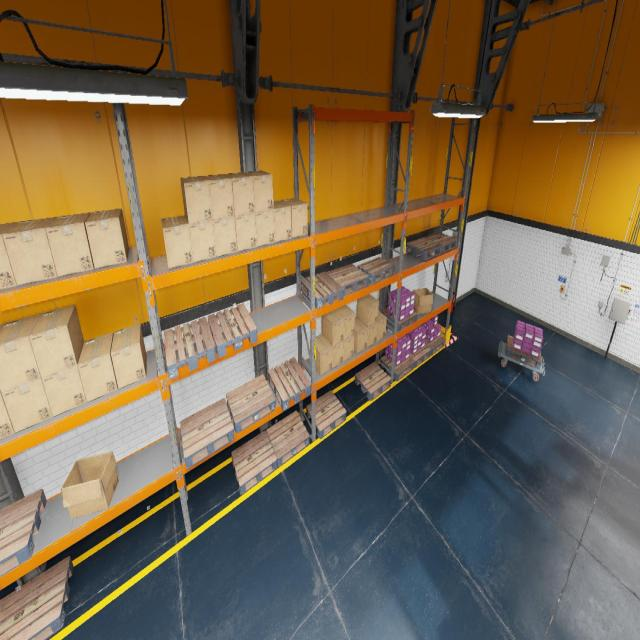box: (29, 304, 84, 378), (60, 451, 118, 518), (2, 217, 57, 286), (0, 314, 41, 392), (41, 348, 87, 416), (46, 212, 94, 276), (1, 378, 53, 432), (78, 332, 118, 402), (85, 208, 129, 268), (111, 323, 146, 389), (161, 215, 193, 269), (180, 176, 212, 224), (204, 174, 234, 220), (225, 172, 255, 216), (0, 221, 18, 289), (245, 171, 273, 212), (189, 220, 216, 262), (281, 198, 308, 238), (213, 216, 237, 257), (310, 334, 332, 375), (234, 213, 256, 251), (322, 309, 344, 346), (255, 209, 275, 247), (274, 200, 292, 242), (322, 334, 344, 368), (356, 294, 379, 326), (0, 392, 15, 439), (357, 316, 378, 348), (336, 305, 355, 340), (413, 288, 433, 314), (354, 317, 368, 353), (376, 310, 386, 342), (0, 323, 4, 393), (344, 335, 354, 361)
pallets: (0, 555, 73, 639), (0, 488, 46, 576), (180, 398, 234, 468), (164, 317, 216, 380), (231, 430, 277, 495), (226, 374, 275, 434), (208, 303, 258, 358), (266, 411, 310, 467), (268, 357, 311, 411), (306, 390, 346, 438), (301, 272, 343, 309), (355, 362, 391, 401), (326, 264, 369, 295), (506, 335, 542, 369), (358, 256, 394, 284), (380, 356, 414, 381), (406, 238, 442, 260), (382, 308, 417, 330), (423, 232, 458, 252), (407, 345, 431, 367), (423, 335, 446, 355)
